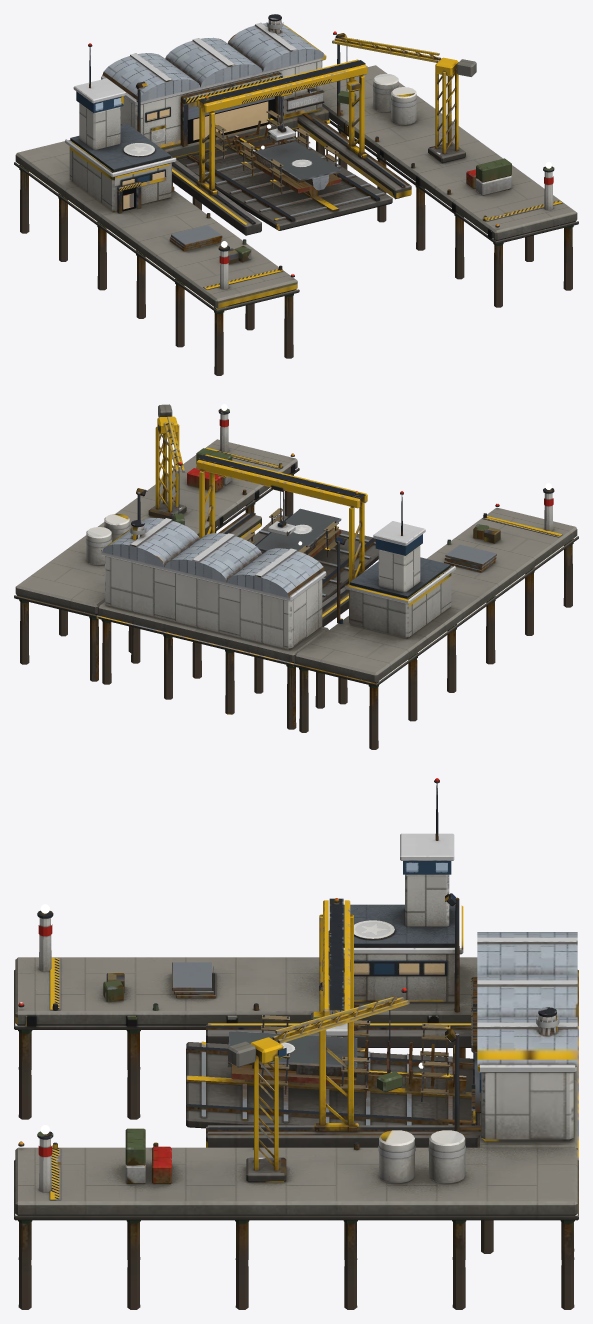
The model's file is syrd.allies.glb.
3 views of the same model, one above another, from view 1: azimuth 30°, elevation 25°; view 2: azimuth 150°, elevation 25°; view 3: azimuth 270°, elevation 25° (orthographic). The views are drawn at different scales.
Visible parts, largest first — view 1: root_mesh, gantry_mesh, jib_mesh; view 2: root_mesh, gantry_mesh, jib_mesh; view 3: root_mesh, gantry_mesh, jib_mesh.
Boxes of the visible parts, x1,y1,x2,y2 form: root_mesh: (14,14,578,375); gantry_mesh: (196,59,367,195); jib_mesh: (332,31,476,104); root_mesh: (14,404,578,749); gantry_mesh: (196,454,367,585); jib_mesh: (157,404,184,525); root_mesh: (14,778,578,1309); gantry_mesh: (311,898,358,1131); jib_mesh: (228,988,409,1092).
Size of the model in its own units: 2.91 by 1.67 by 2.81.
3 materials, 1 textured.
